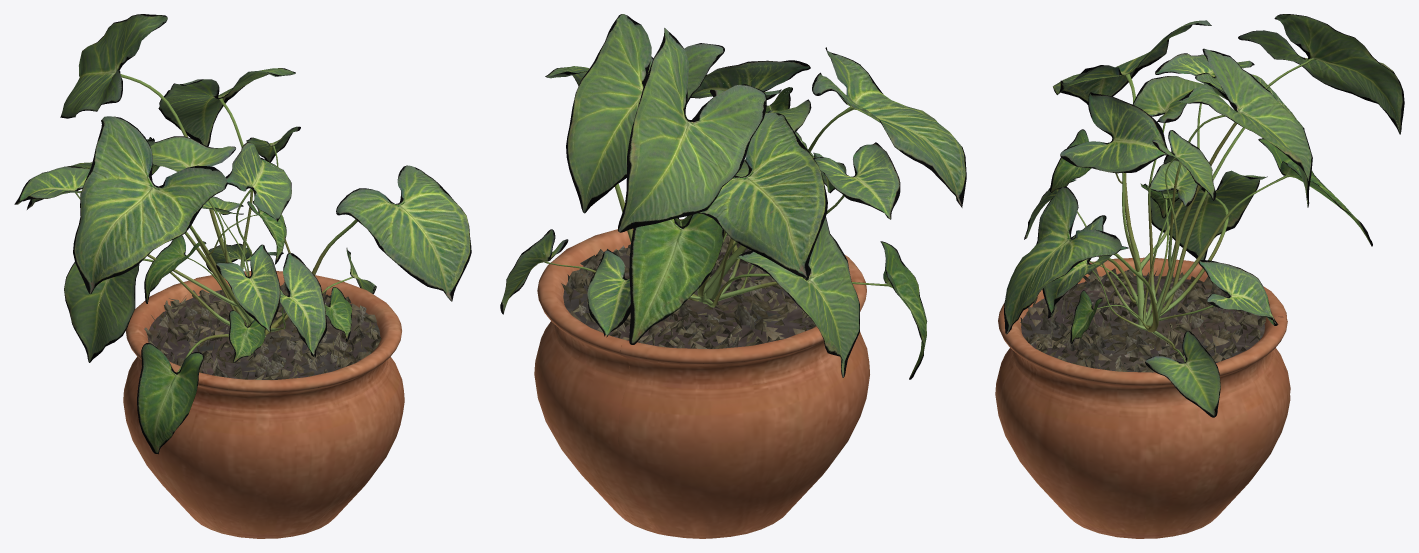
File: syngonium-pot.glb
3 renders of one model, left to right at view 1: azimuth 30°, elevation 25°; view 2: azimuth 150°, elevation 25°; view 3: azimuth 270°, elevation 25°, orthographic. The views are drawn at different scales.
Parts seen in each view (by area): view 1: potted_plant_02_leaves, potted_plant_02_pot, potted_plant_02_dirt; view 2: potted_plant_02_leaves, potted_plant_02_pot, potted_plant_02_dirt; view 3: potted_plant_02_leaves, potted_plant_02_pot, potted_plant_02_dirt.
Part boxes in pixels (left/top/right/bottom): potted_plant_02_leaves: left=14, top=14, right=471, bottom=454; potted_plant_02_pot: left=123, top=271, right=404, bottom=538; potted_plant_02_dirt: left=144, top=282, right=381, bottom=379; potted_plant_02_leaves: left=500, top=14, right=966, bottom=379; potted_plant_02_pot: left=534, top=219, right=869, bottom=538; potted_plant_02_dirt: left=561, top=234, right=815, bottom=348; potted_plant_02_leaves: left=1004, top=14, right=1404, bottom=417; potted_plant_02_pot: left=995, top=257, right=1290, bottom=538; potted_plant_02_dirt: left=1020, top=268, right=1266, bottom=372.
Bounding box in the file's own units: 0.7012 × 0.8414 × 0.6574.
2 materials, 2 textured.
